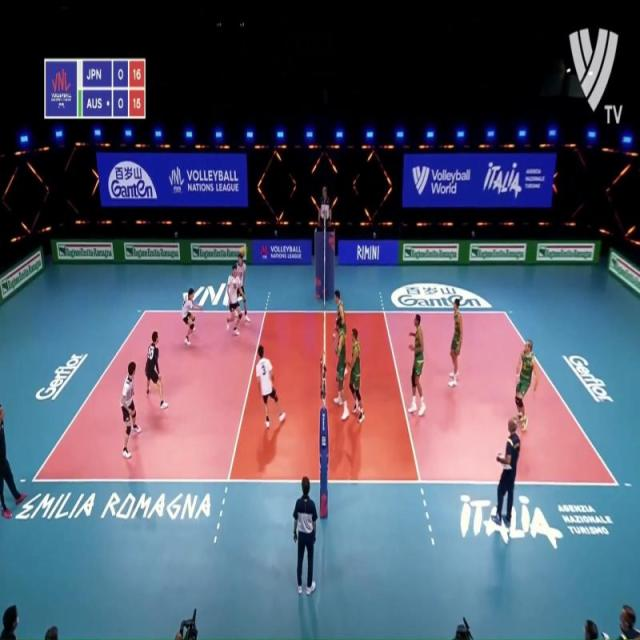volleyball: (240, 245, 247, 258)
